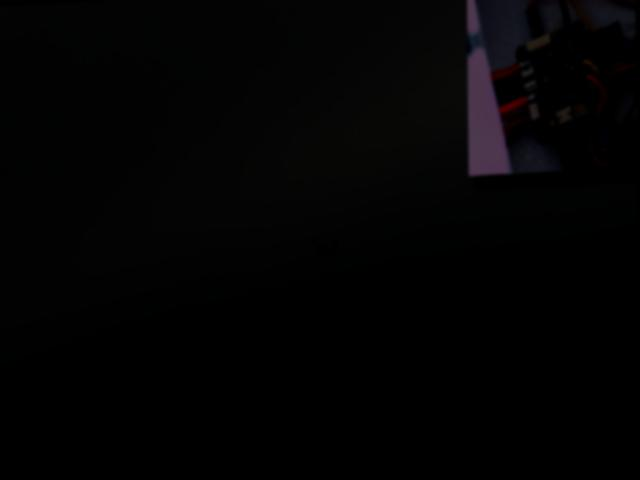plane: (312, 241, 341, 261)
